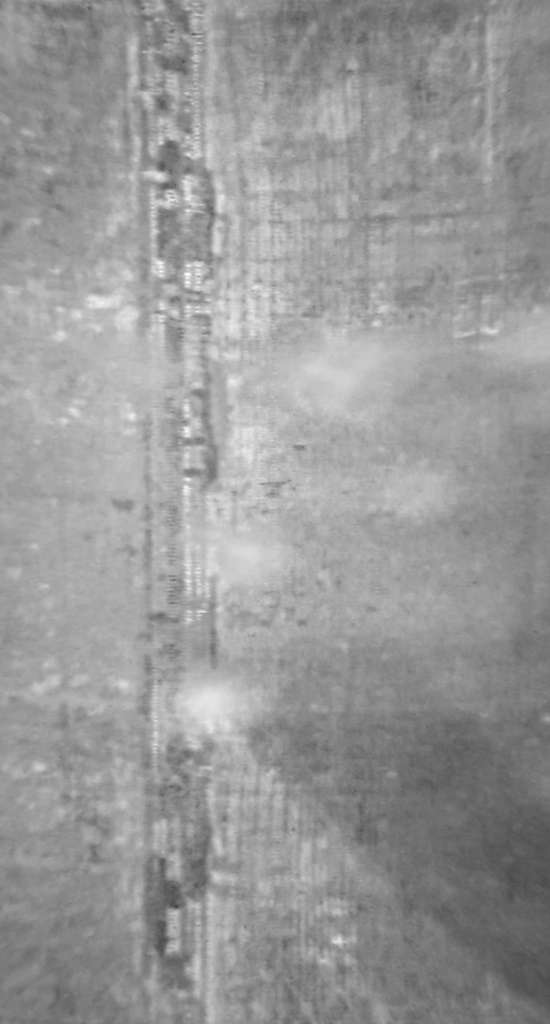splice: (129, 1, 218, 1024)
